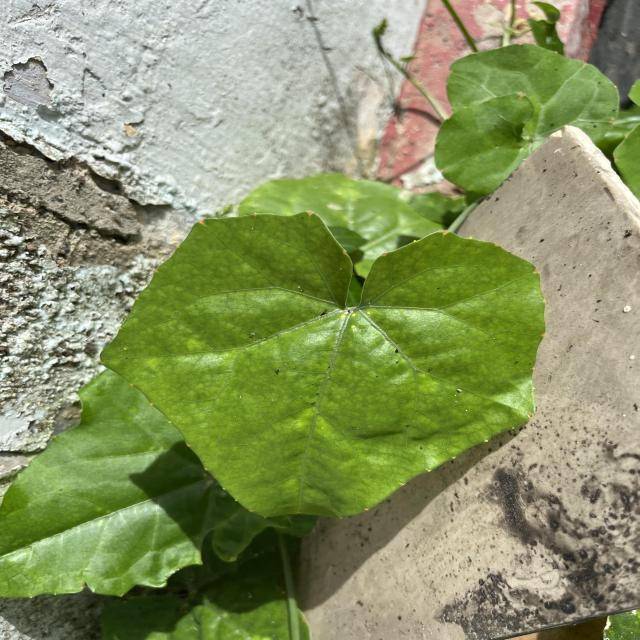Coccinia grandis: (96, 208, 551, 524)
